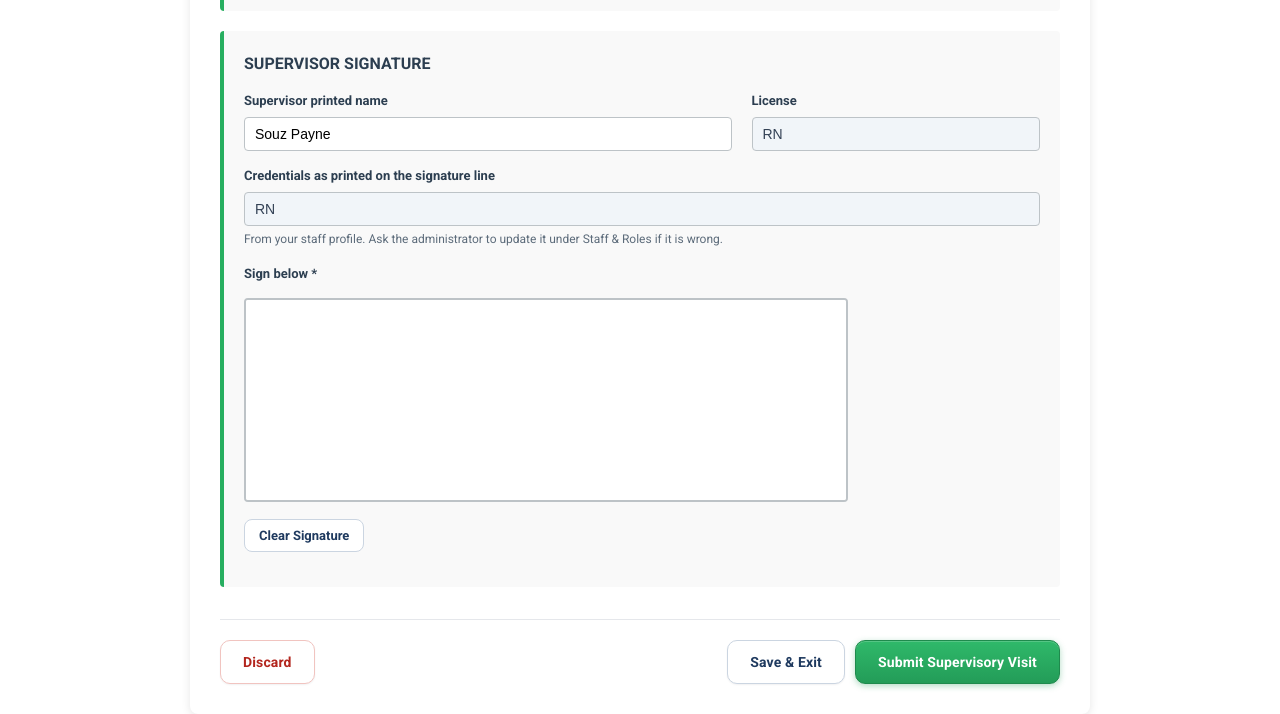
Test: SupervisoryVisitPage › blocks an incomplete submit and names what is missing
The image size is (1280, 714).
(page scrolled)
Click the button "Submit Supervisory Visit".
click(958, 662)  # box [855, 640, 1060, 684]
(page scrolled)
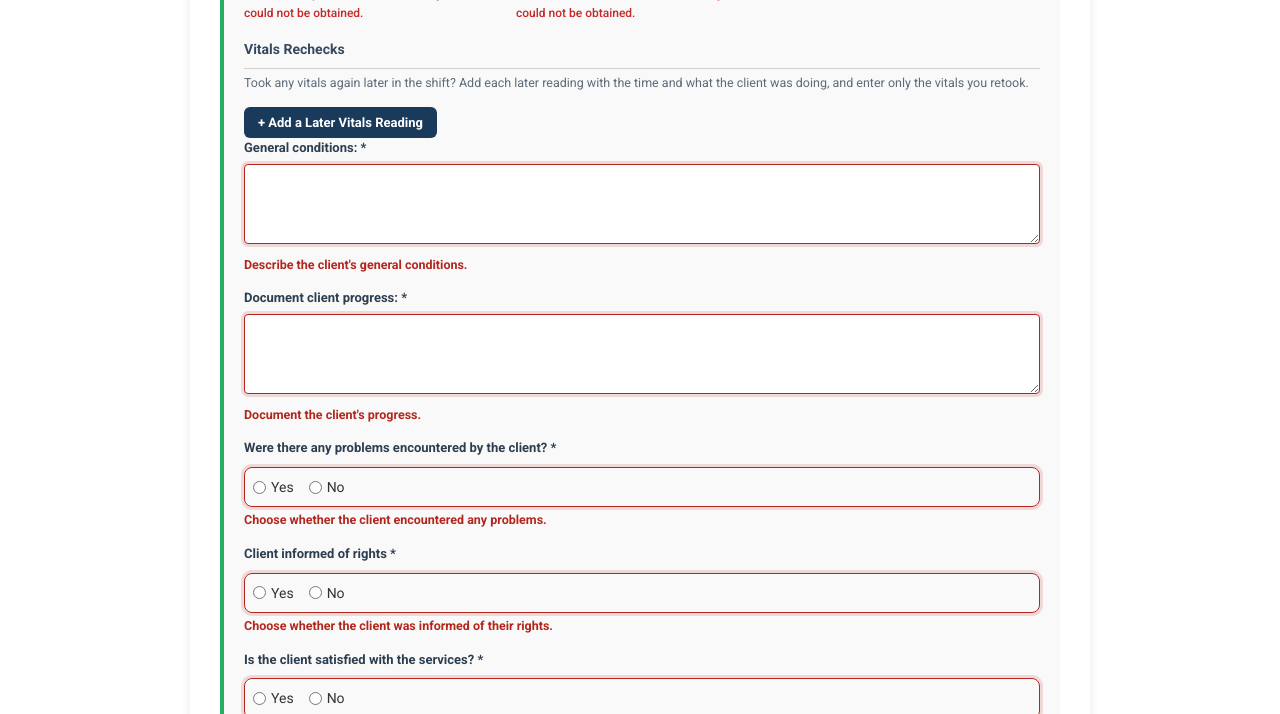
Expected: the text "Describe the client's general conditions." is shown, [244, 257, 468, 272]
Expected: the text "Document the client's progress." is shown, [244, 407, 421, 422]
